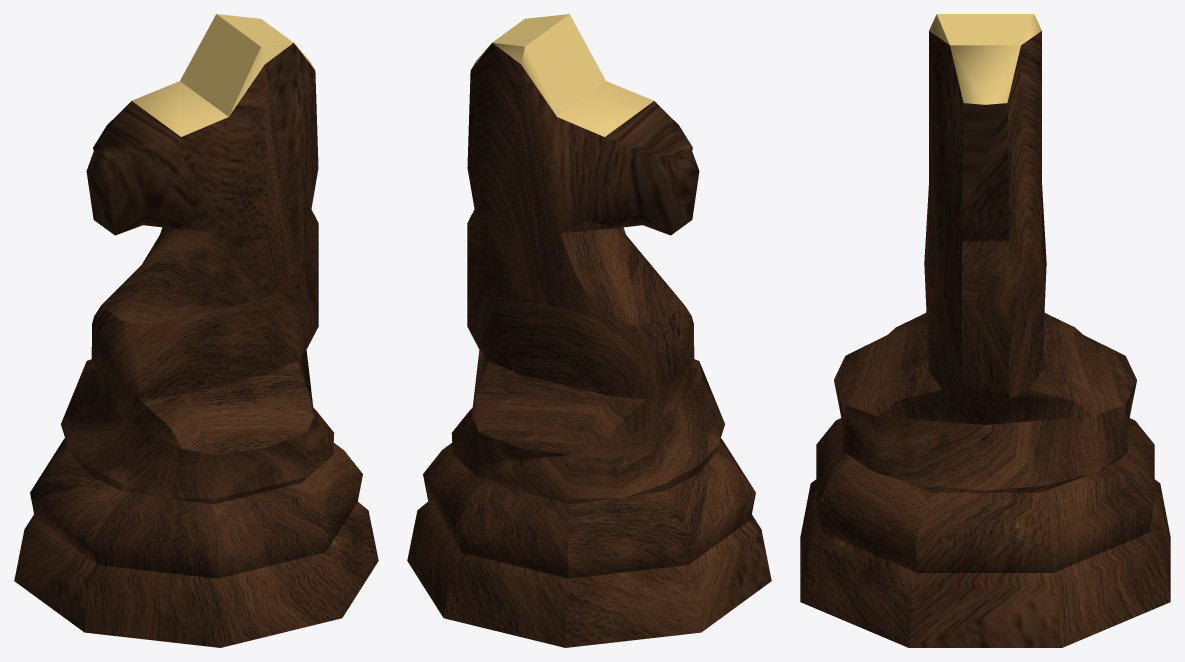
File: gercek4_n_b.glb
The picture shows the model from 3 angles, left to right: view 1: azimuth 30°, elevation 25°; view 2: azimuth 150°, elevation 25°; view 3: azimuth 270°, elevation 25°; orthographic projection. The views are drawn at different scales.
Parts seen in each view (by area): view 1: n; view 2: n; view 3: n.
Boxes of the visible parts, box(x1,y1,x2,y2) form: n: box(14, 14, 378, 647); n: box(407, 14, 771, 647); n: box(800, 14, 1170, 647).
Bounding box in the file's own units: 0.5225 × 0.9 × 0.5225.
Materials: 2 (1 with a texture image).
